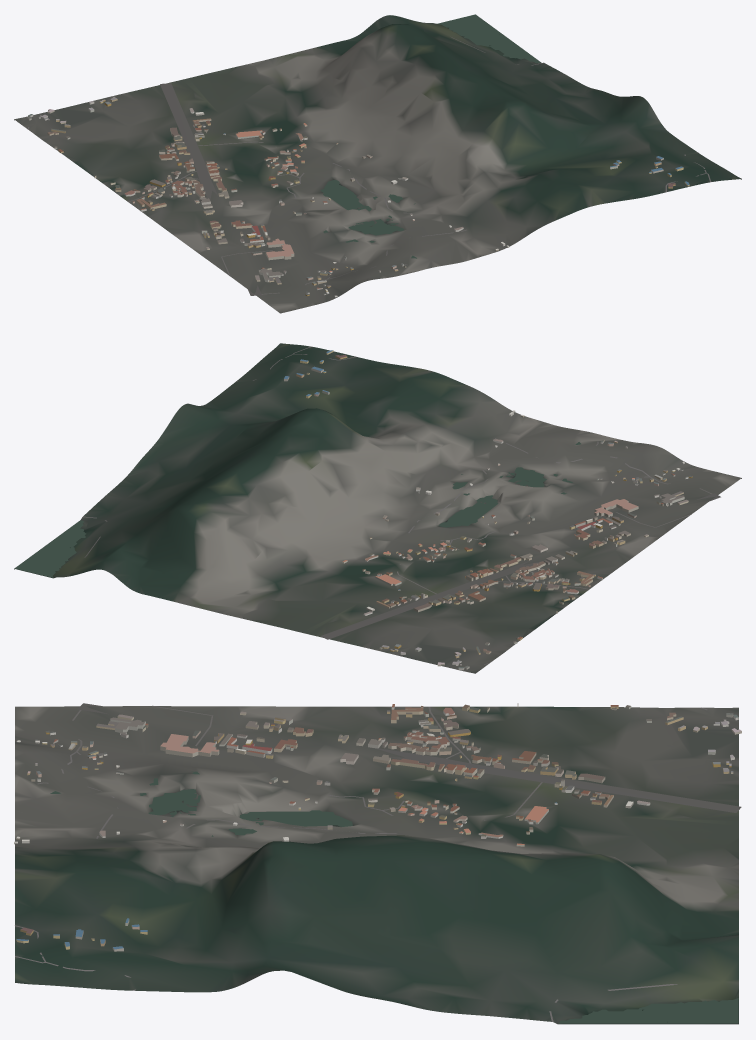
3 renders of one model, top to bottom at view 1: azimuth 30°, elevation 25°; view 2: azimuth 150°, elevation 25°; view 3: azimuth 270°, elevation 25°, orthographic. The views are drawn at different scales.
Parts seen in each view (by area): view 1: ground, buildings, water, roads; view 2: ground, buildings, water, roads; view 3: ground, buildings, water, roads.
Part boxes in pixels (x1,y1,x2,y2): ground: (14,15,741,313); buildings: (27,96,689,297); water: (320,14,541,258); roads: (27,37,711,295); ground: (14,343,741,673); buildings: (284,350,692,670); water: (15,442,580,577); roads: (82,346,720,664); ground: (15,706,738,1024); buildings: (14,703,741,951); water: (50,771,738,1023); roads: (15,703,741,1021).
Size of the model in its own units: 1417 by 199 by 1409.
